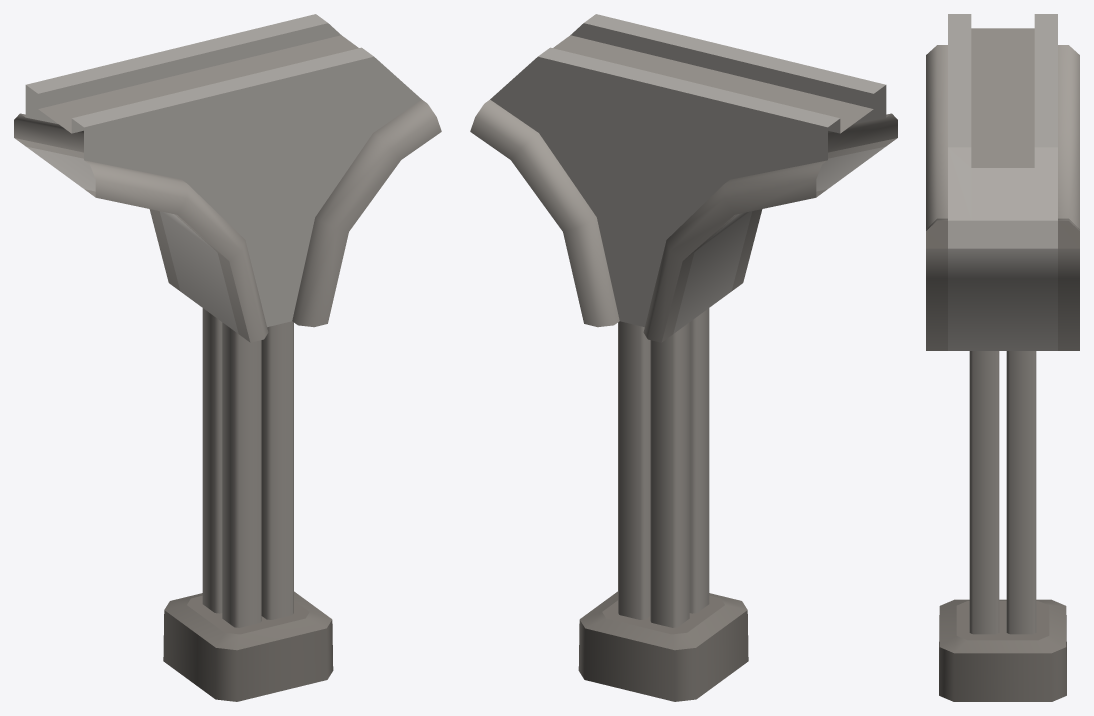
File: Pillar 04 End.FBX
3 renders of one model, left to right at view 1: azimuth 30°, elevation 25°; view 2: azimuth 150°, elevation 25°; view 3: azimuth 270°, elevation 25°, orthographic. The views are drawn at different scales.
Parts seen in each view (by area): view 1: Pillar 04 End; view 2: Pillar 04 End; view 3: Pillar 04 End.
Boxes of the visible parts, x1,y1,x2,y2 form: Pillar 04 End: [14, 14, 441, 701]; Pillar 04 End: [470, 14, 897, 701]; Pillar 04 End: [926, 14, 1079, 701].
Size of the model in its own units: 268 by 450 by 110.
1 material, 1 textured.
